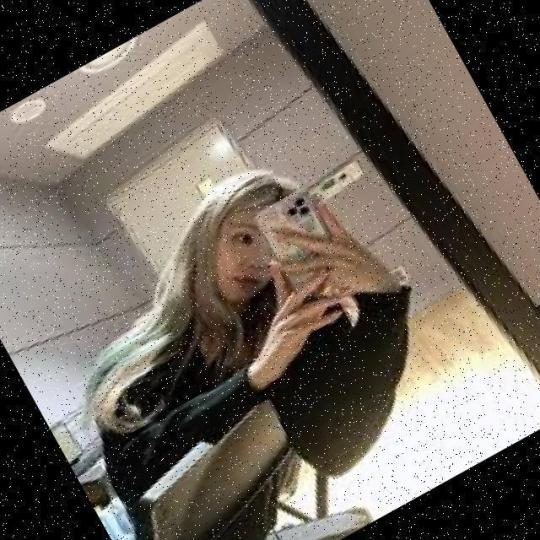phone: (255, 190, 347, 295)
